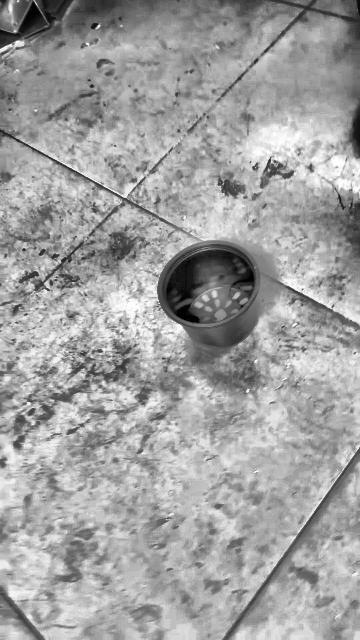pot: (157, 241, 261, 347)
